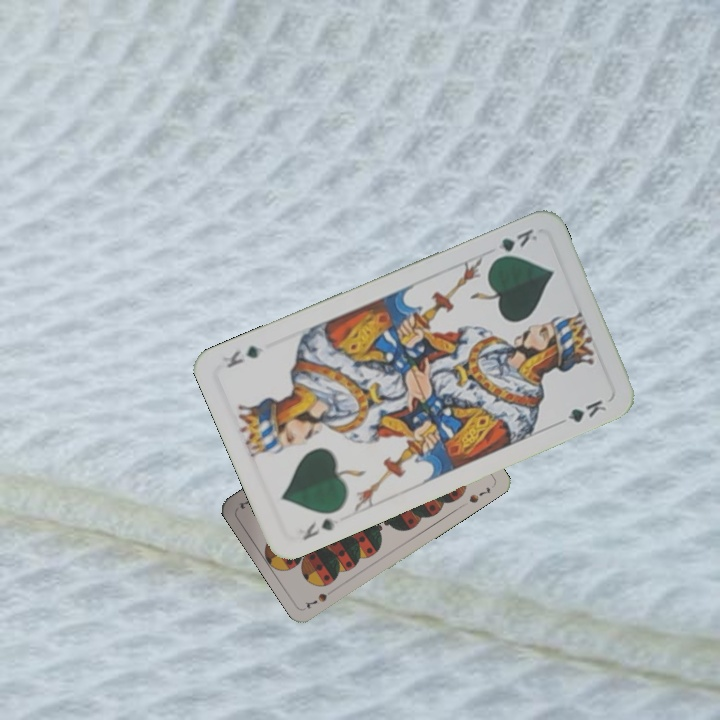GK: (488, 224, 540, 264), (294, 514, 338, 543)
S7: (301, 584, 338, 611)
